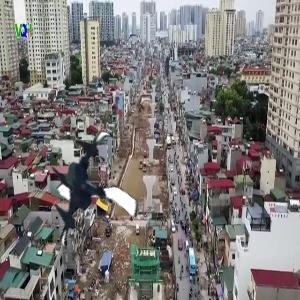drone: (30, 132, 150, 252)
